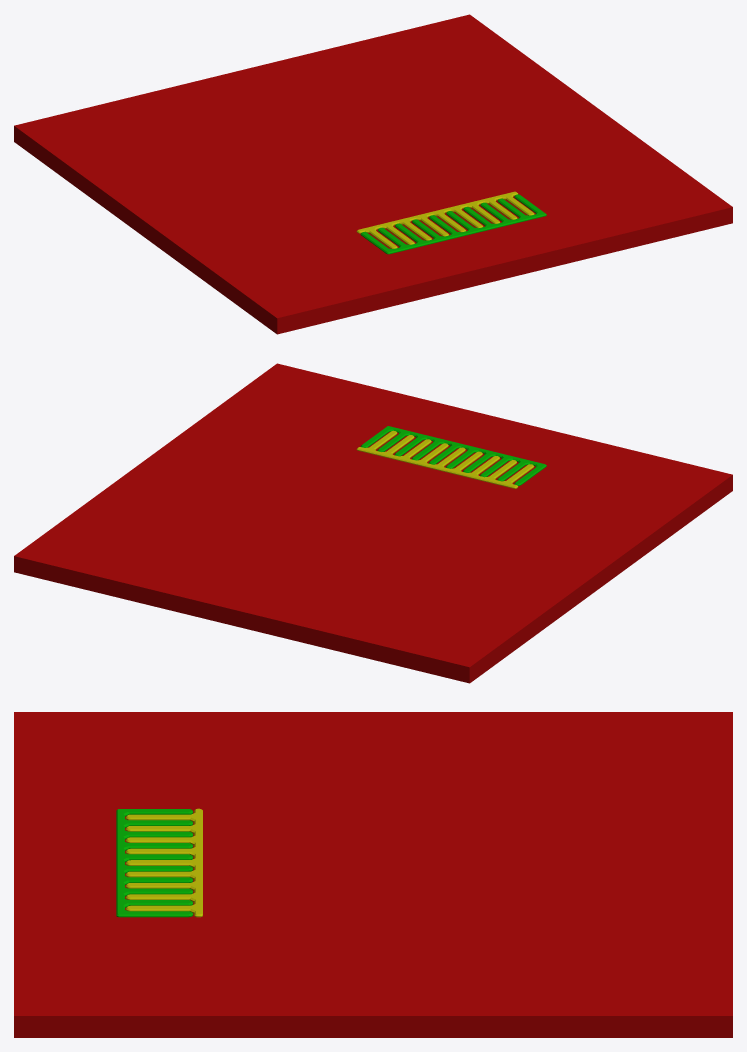
Rendered from base_bottom.fbx.
The picture shows the model from 3 angles, top to bottom: view 1: azimuth 30°, elevation 25°; view 2: azimuth 150°, elevation 25°; view 3: azimuth 270°, elevation 25°; orthographic projection. The views are drawn at different scales.
Parts seen in each view (by area): view 1: bottom_base, bottom_stakes; view 2: bottom_base, bottom_stakes; view 3: bottom_base, bottom_stakes.
Part boxes in pixels (x1,y1,x2,y2): bottom_base: (14, 14, 732, 334); bottom_stakes: (356, 191, 546, 254); bottom_base: (14, 363, 732, 683); bottom_stakes: (356, 426, 546, 488); bottom_base: (14, 712, 732, 1037); bottom_stakes: (116, 808, 202, 917).
Bounding box in the file's own units: 7.07 × 0.2658 × 7.07.
